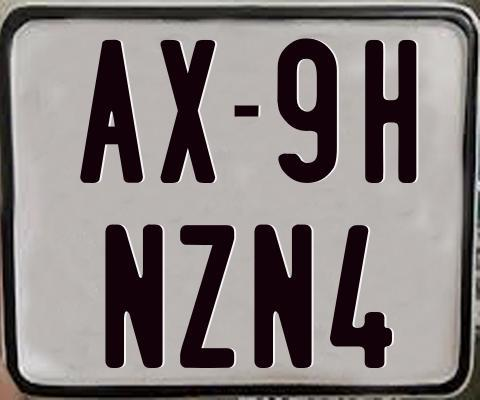4: (330, 222, 398, 367)
9: (276, 36, 338, 183)
A: (80, 38, 145, 182)
H: (362, 37, 415, 184)
N: (105, 224, 169, 370), (253, 223, 316, 371)
X: (160, 38, 218, 187)
Z: (179, 225, 236, 371)
